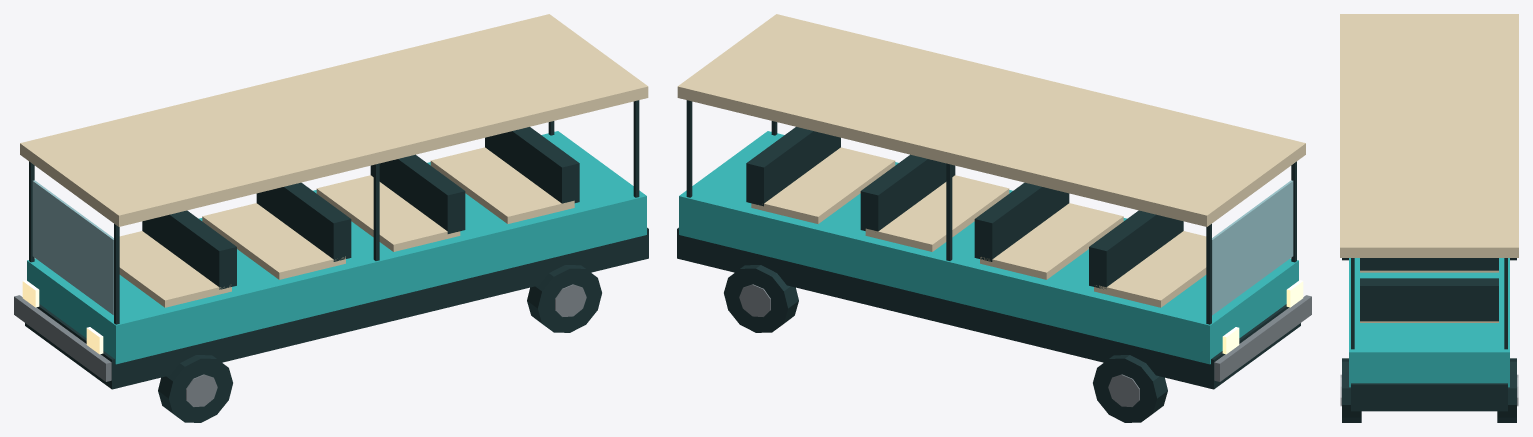
The model's file is zoo_shuttle.fbx.
3 renders of one model, left to right at view 1: azimuth 30°, elevation 25°; view 2: azimuth 150°, elevation 25°; view 3: azimuth 270°, elevation 25°, orthographic. The views are drawn at different scales.
Parts seen in each view (by area): view 1: zoo_shuttle; view 2: zoo_shuttle; view 3: zoo_shuttle.
Boxes of the visible parts, bbox=[...] form: zoo_shuttle: bbox=[14, 14, 648, 422]; zoo_shuttle: bbox=[677, 14, 1311, 422]; zoo_shuttle: bbox=[1340, 14, 1518, 422].
Bounding box in the file's own units: 7 × 2.8 × 2.2.
